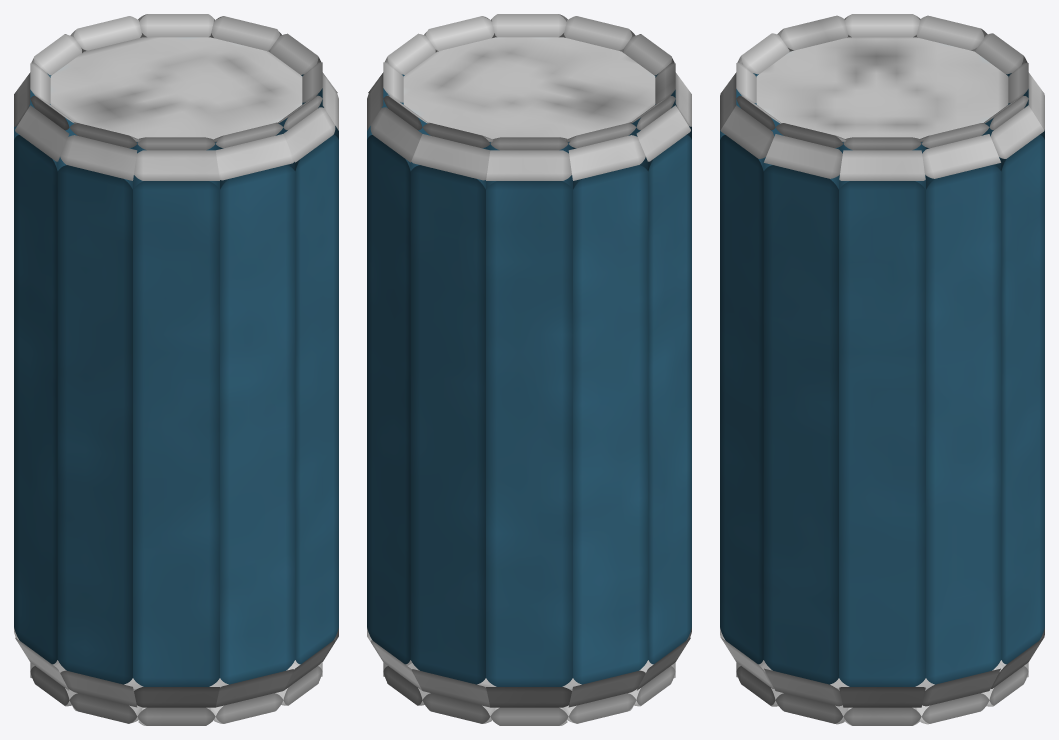
File: empty_can.obj
3 renders of one model, left to right at view 1: azimuth 30°, elevation 25°; view 2: azimuth 150°, elevation 25°; view 3: azimuth 270°, elevation 25°, orthographic.
Parts seen in each view (by area): view 1: cylinder; view 2: cylinder; view 3: cylinder.
Boxes of the visible parts, box(x1,y1,x2,y2) form: cylinder: box(14, 14, 338, 725); cylinder: box(367, 14, 691, 725); cylinder: box(720, 14, 1044, 725).
Size of the model in its own units: 0.25 by 0.5 by 0.25.
Materials: 1 (1 with a texture image).
